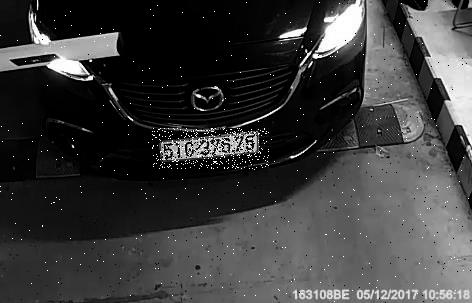License-plate: (153, 130, 270, 171)
